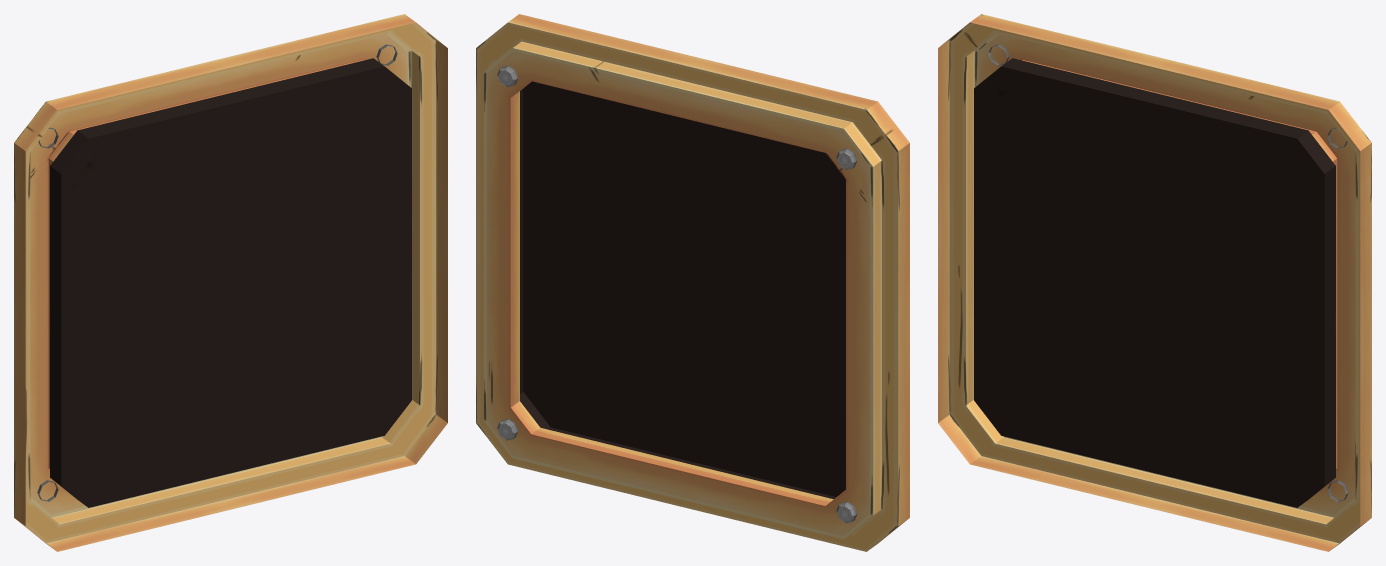
File: ConveyorBeltOpening.fbx
The picture shows the model from 3 angles, left to right: view 1: azimuth 30°, elevation 25°; view 2: azimuth 150°, elevation 25°; view 3: azimuth 330°, elevation 25°; orthographic projection.
Parts seen in each view (by area): view 1: ConveyorBeltOpening; view 2: ConveyorBeltOpening; view 3: ConveyorBeltOpening.
Part boxes in pixels (x1,y1,x2,y2): ConveyorBeltOpening: (14, 14, 447, 551); ConveyorBeltOpening: (476, 14, 909, 551); ConveyorBeltOpening: (938, 14, 1371, 551).
Size of the model in its own units: 3 by 3 by 0.2905.
